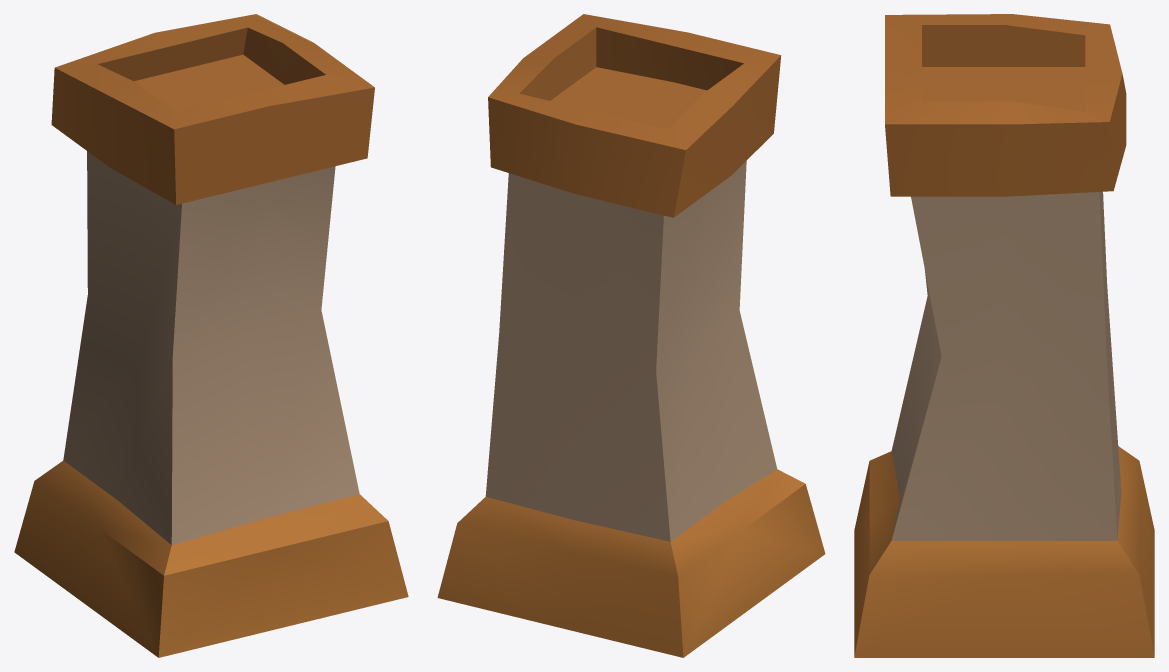
File: Pillar_rough_B.fbx
3 views of the same model, side by side, from view 1: azimuth 30°, elevation 25°; view 2: azimuth 150°, elevation 25°; view 3: azimuth 270°, elevation 25° (orthographic). The views are drawn at different scales.
Visible parts, largest first — view 1: Pillar_rough_B; view 2: Pillar_rough_B; view 3: Pillar_rough_B.
Boxes of the visible parts, x1,y1,x2,y2 form: Pillar_rough_B: (14,14,408,657); Pillar_rough_B: (437,14,825,657); Pillar_rough_B: (854,14,1154,657).
Size of the model in its own units: 50.58 by 98.67 by 50.58.
